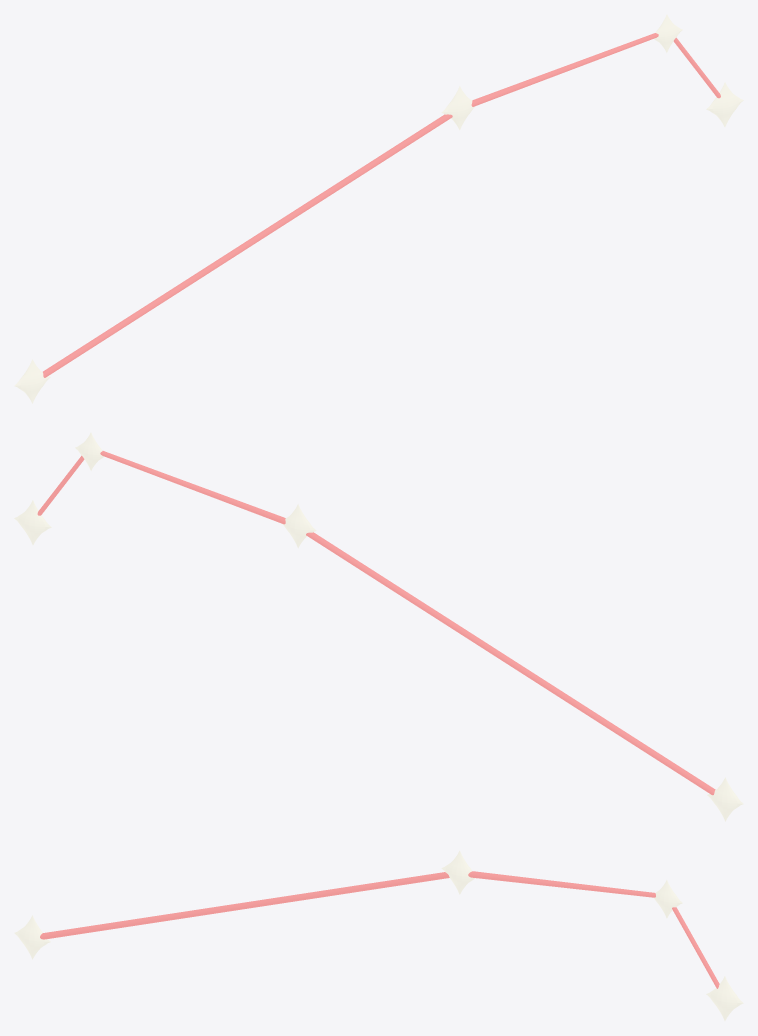
File: sozvezdiya-oven.glb
3 renders of one model, top to bottom at view 1: azimuth 30°, elevation 25°; view 2: azimuth 150°, elevation 25°; view 3: azimuth 330°, elevation 25°, orthographic.
Visible parts, largest first — view 1: Cylinder, Sphere.004, Sphere.001, Sphere.003; view 2: Cylinder, Sphere.004, Sphere.001, Sphere.003; view 3: Cylinder, Sphere.004, Sphere.001, Sphere.003, Sphere.
Boxes of the visible parts, x1,y1,x2,y2 form: Cylinder: [43, 33, 720, 377]; Sphere.004: [706, 82, 743, 126]; Sphere.001: [14, 359, 50, 403]; Sphere.003: [441, 86, 474, 130]; Cylinder: [37, 451, 715, 795]; Sphere.004: [14, 500, 51, 544]; Sphere.001: [707, 777, 743, 821]; Sphere.003: [282, 504, 316, 548]; Cylinder: [40, 871, 719, 988]; Sphere.004: [706, 976, 743, 1020]; Sphere.001: [14, 915, 50, 959]; Sphere.003: [441, 850, 475, 894]; Sphere: [654, 880, 682, 918].
Bounding box in the file's own units: 0.1989 × 0.0612 × 0.00337.
